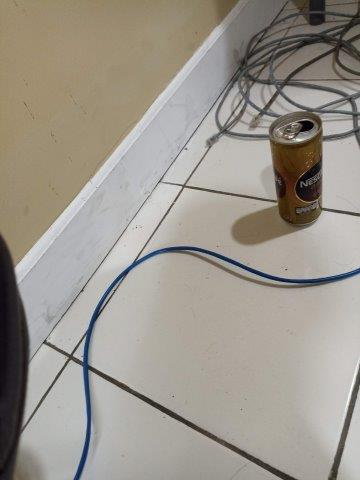kaleng: (269, 111, 323, 227)
